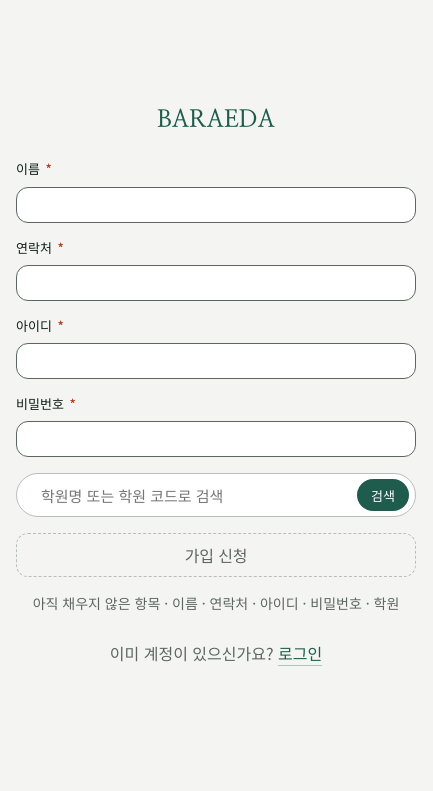
Test: SignupForm › 아이디가 비어 있으면 가입 요청을 보내지 않고 이유를 알린다
In the field labelled "이름 *": (216, 205) [16,187,416,223], type "김관계"
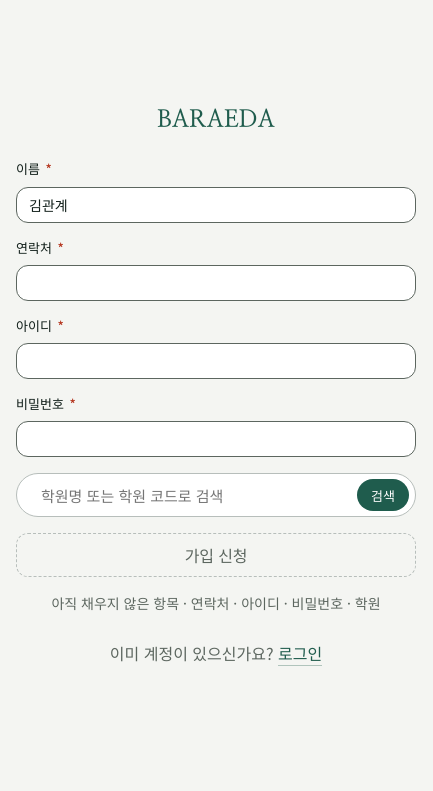
In the field labelled "연락처 *": (216, 283) [16,265,416,301], type "010-1111-2222"
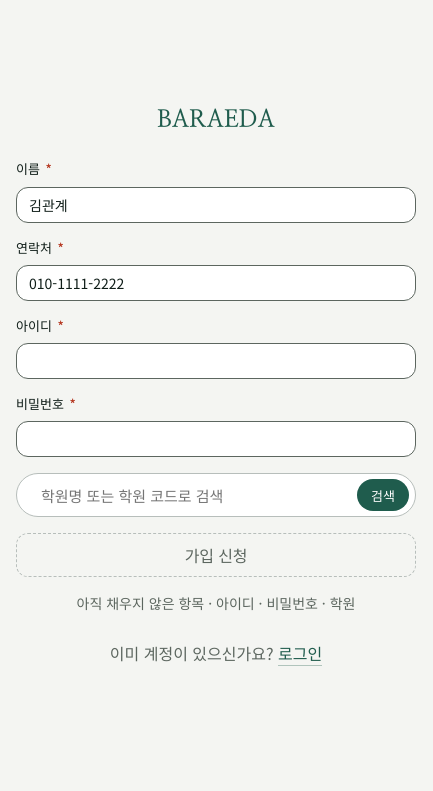
In the password field labelled "비밀번호 *": (216, 439) [16,421,416,457], type "password1"
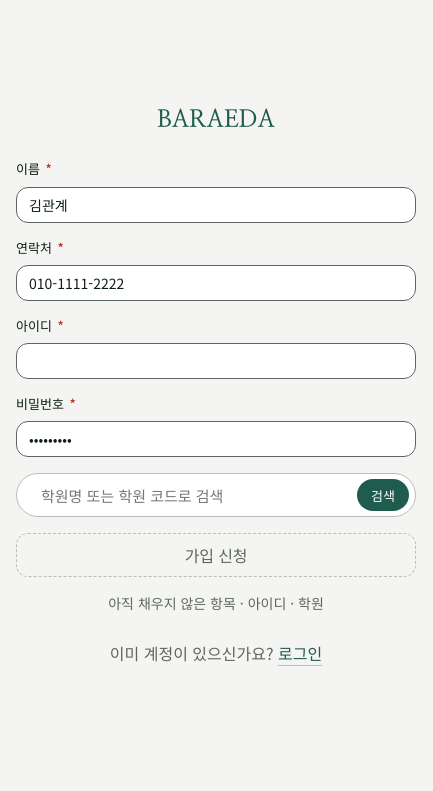
In the field with placeholder "학원명 또는 학원 코드로 검색": (194, 495) [39,484,349,507], type "학원"
Click the button "검색": (383, 495) [357,479,409,511]
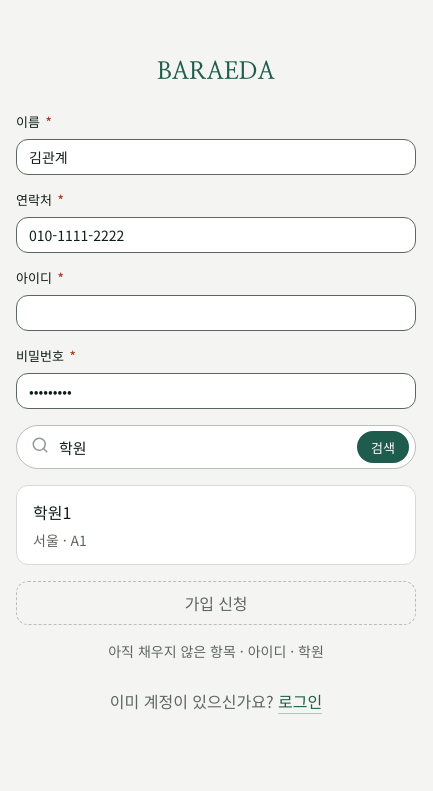
Click the button "학원1 서울 · A1": (52, 512) [16,485,416,565]
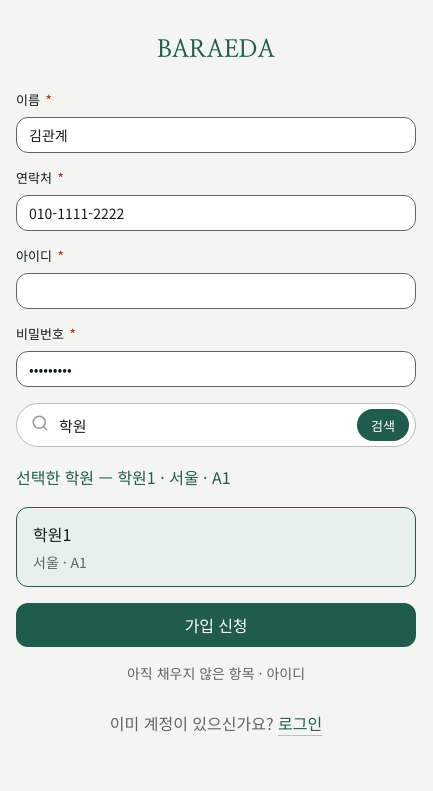
Click the button "가입 신청": (216, 625) [16,603,416,647]
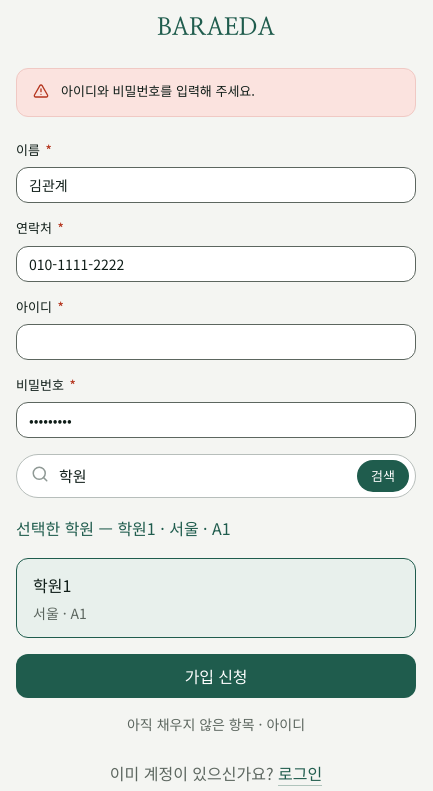
Now the text "아직 채우지 않은 항목 · 아이디" is shown, box [127,714,305,734]
Now the text "아이디와 비밀번호를 입력해 주세요." is shown, box [61,81,255,100]
